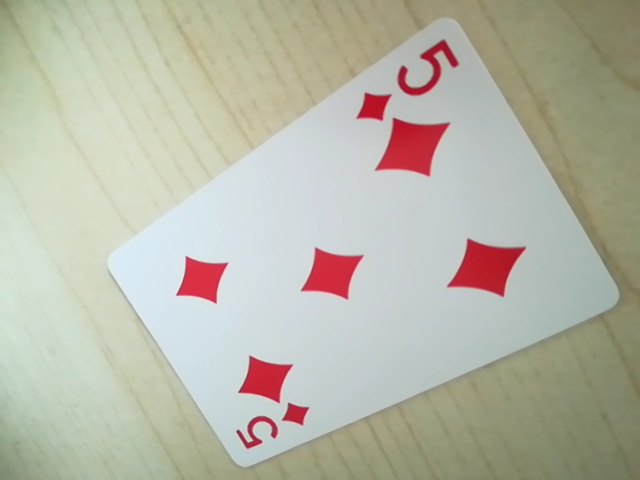fk 5: (353, 36, 462, 125), (232, 398, 312, 459)
